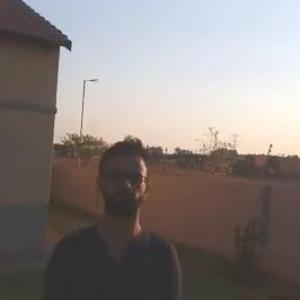follow: (32, 131, 186, 299)
